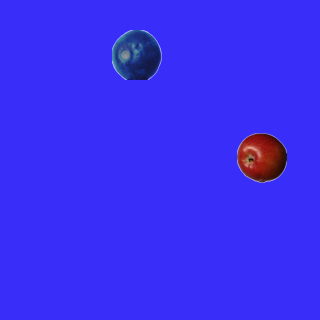Apple Braeburn: (236, 132, 286, 182)
Huckleberry: (111, 29, 161, 79)
